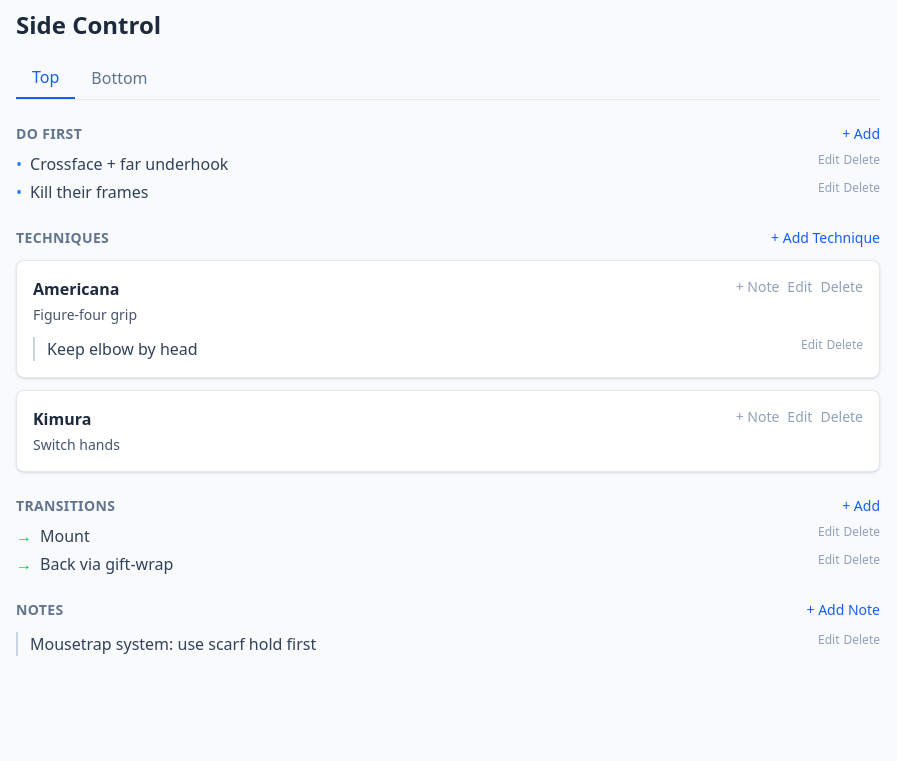
Scenario: PositionView › opens technique form when "+ Add Technique" clicked
Click the button "+ Add Technique" at (826, 238), box [771,228,880,248]
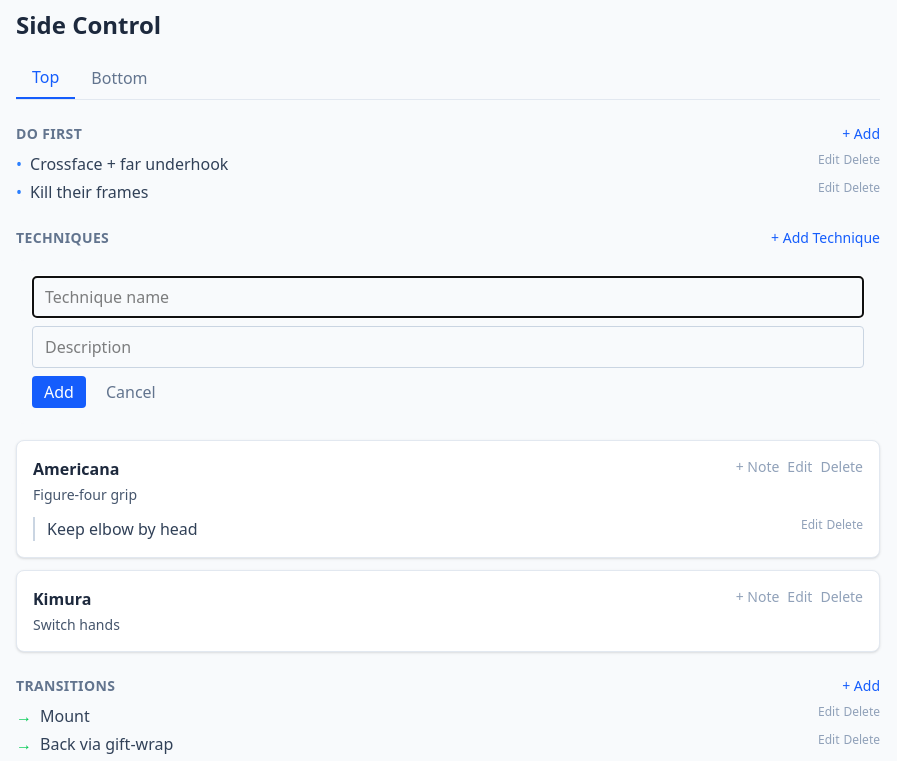
Expected: the field with placeholder "Technique name" is shown, [32,276,864,318]
Expected: the field with placeholder "Description" is shown, [32,326,864,368]
